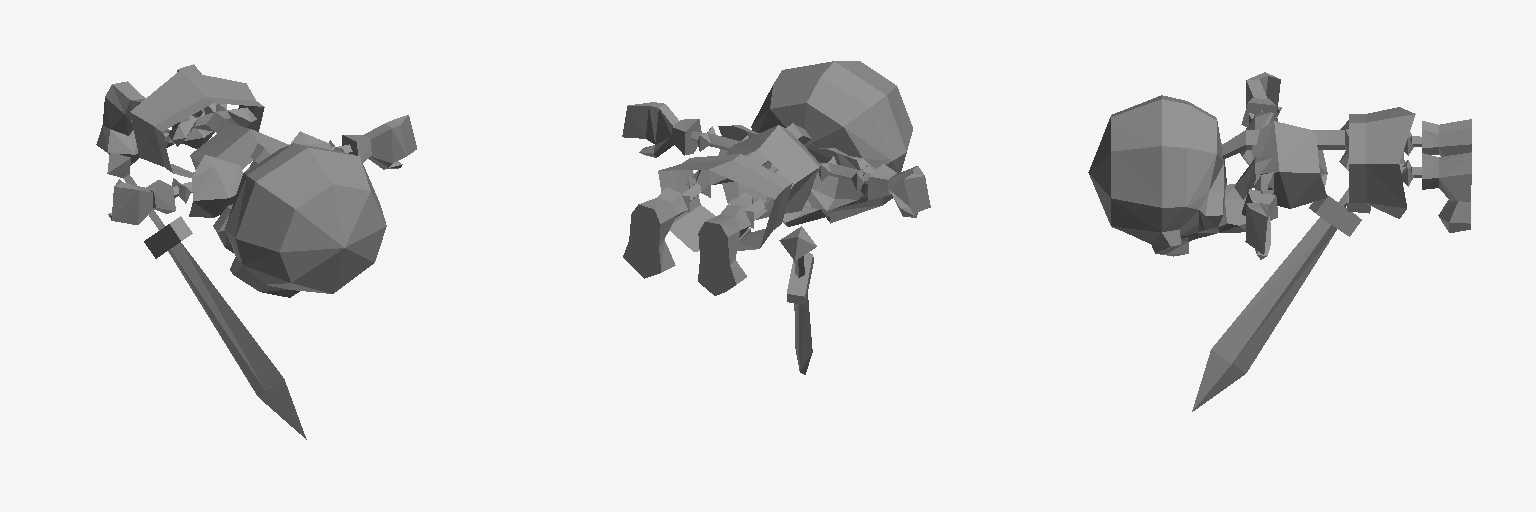
3 renders of one model, left to right at view 1: azimuth 30°, elevation 25°; view 2: azimuth 150°, elevation 25°; view 3: azimuth 270°, elevation 25°, orthographic.
Visible parts, largest first — view 1: Skeleton01, Sword01; view 2: Skeleton01, Sword01; view 3: Skeleton01, Sword01.
Part boxes in pixels (x1,y1,x2,y2): Skeleton01: (96, 64, 416, 297); Sword01: (107, 152, 306, 439); Skeleton01: (622, 61, 930, 295); Sword01: (779, 226, 816, 374); Skeleton01: (1088, 72, 1471, 259); Sword01: (1192, 188, 1361, 411).
Bounding box in the file's own units: 17.87 × 17.04 × 19.29.